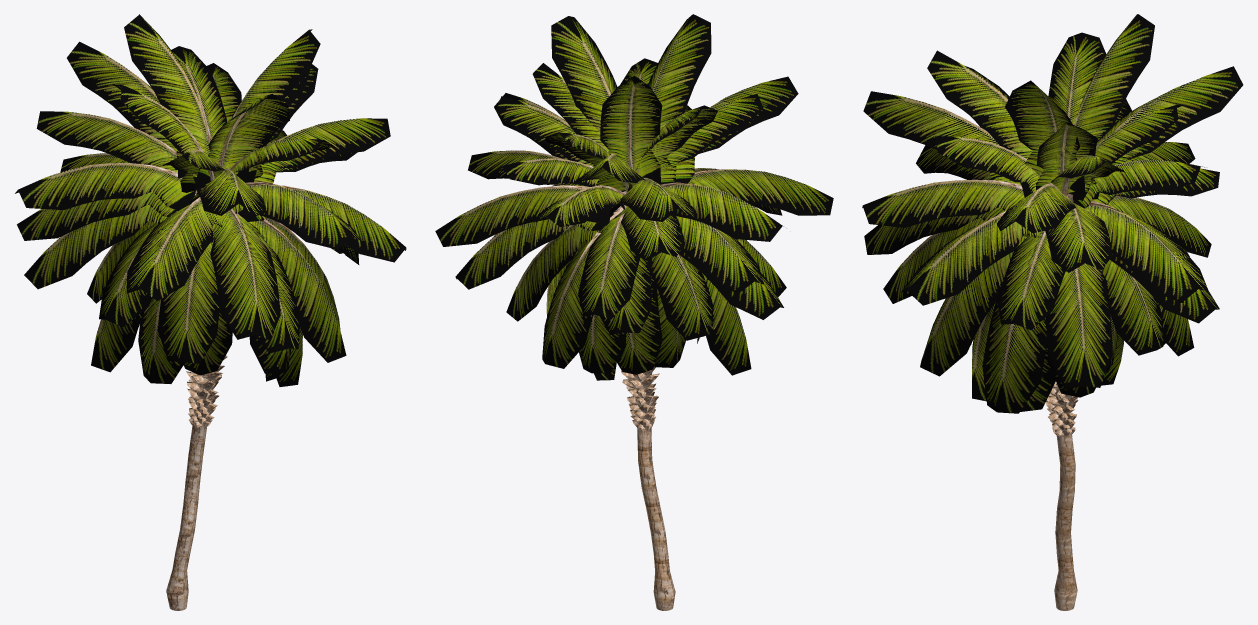
The model's file is palm00_hq.gltf.
The picture shows the model from 3 angles, left to right: view 1: azimuth 30°, elevation 25°; view 2: azimuth 150°, elevation 25°; view 3: azimuth 270°, elevation 25°; orthographic projection. The views are drawn at different scales.
Parts seen in each view (by area): view 1: palm02, date_palm_leaf; view 2: palm02, date_palm_leaf; view 3: palm02, date_palm_leaf.
Part boxes in pixels (x1,y1,x2,y2): palm02: [15, 14, 406, 386]; date_palm_leaf: [131, 106, 306, 610]; palm02: [435, 14, 833, 380]; date_palm_leaf: [541, 124, 723, 610]; palm02: [862, 14, 1243, 413]; date_palm_leaf: [976, 113, 1140, 610].
Bounding box in the file's own units: 72.94 × 120 × 70.09.
2 materials, 2 textured.
